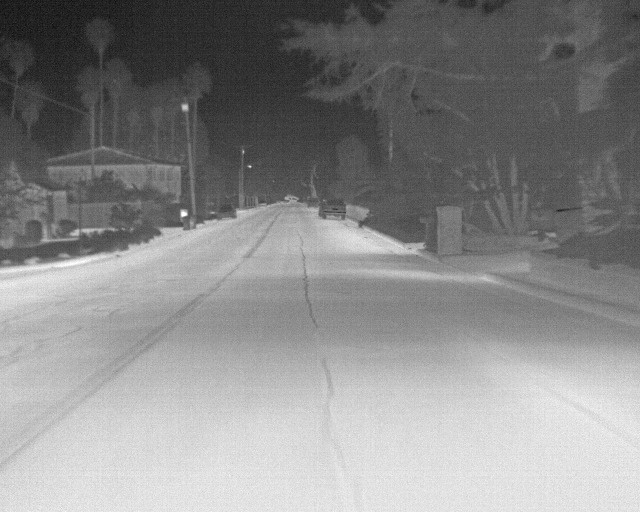vehicle: (319, 197, 347, 220)
